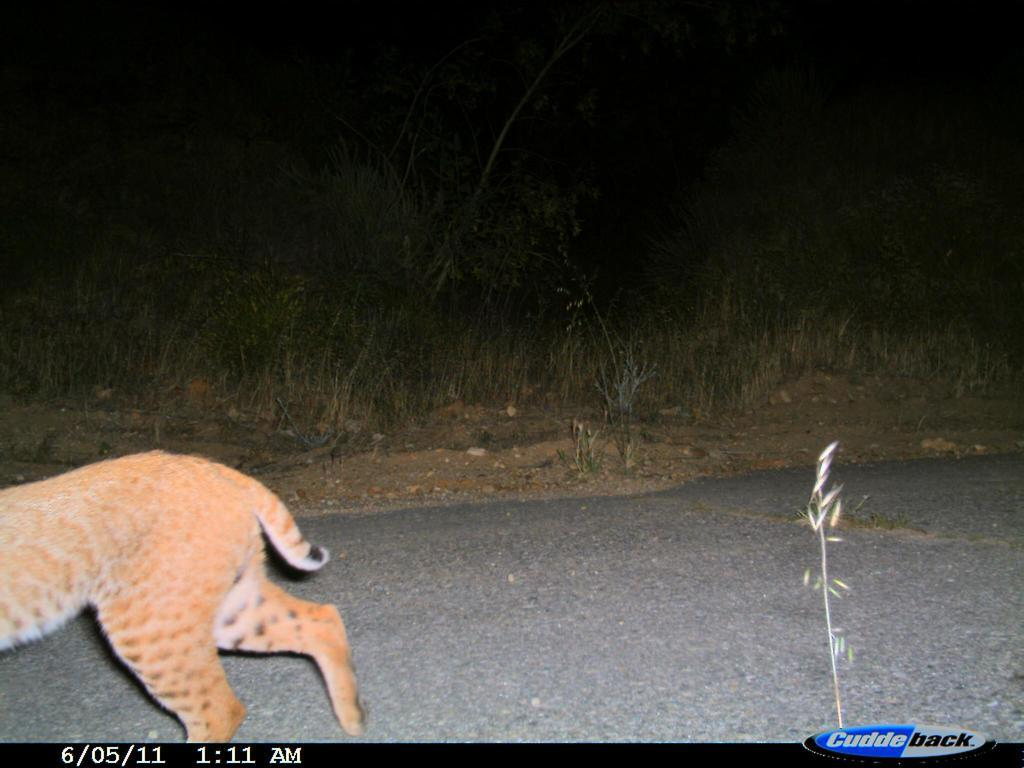bobcat: (3, 446, 388, 745)
